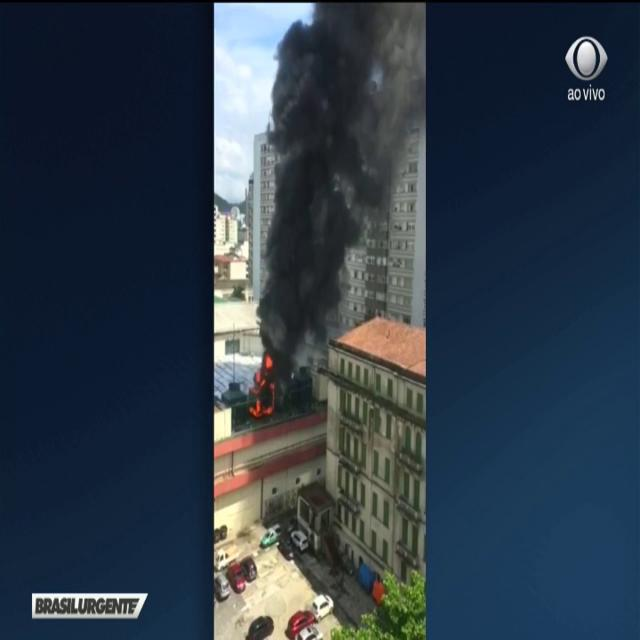Fire: (250, 401, 272, 418), (252, 371, 266, 396), (264, 354, 272, 366)
